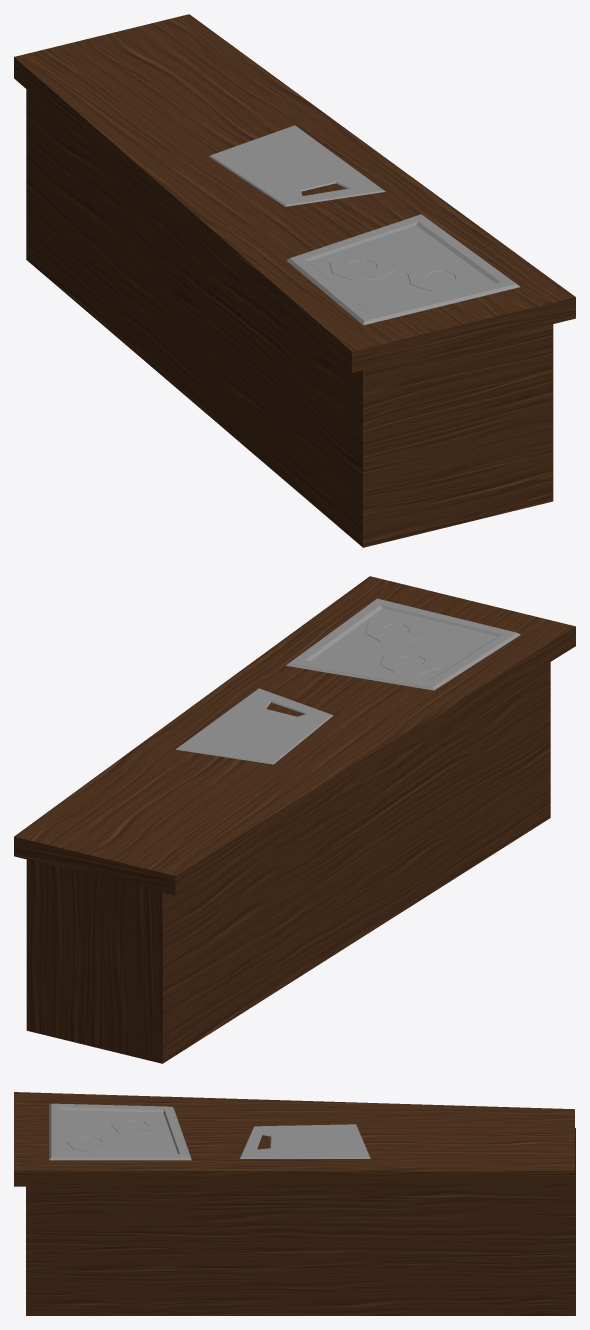
File: KitchenCounter_Sink.fbx
3 renders of one model, top to bottom at view 1: azimuth 30°, elevation 25°; view 2: azimuth 150°, elevation 25°; view 3: azimuth 270°, elevation 25°, orthographic. The views are drawn at different scales.
Visible parts, largest first — view 1: Midnight_Antics_Kitchen_V1.003; view 2: Midnight_Antics_Kitchen_V1.003; view 3: Midnight_Antics_Kitchen_V1.003.
Boxes of the visible parts, <box> form: Midnight_Antics_Kitchen_V1.003: <box>14,14,575,547</box>; Midnight_Antics_Kitchen_V1.003: <box>14,576,575,1063</box>; Midnight_Antics_Kitchen_V1.003: <box>14,1092,575,1315</box>.
Size of the model in its own units: 12769 by 11407 by 38268.
